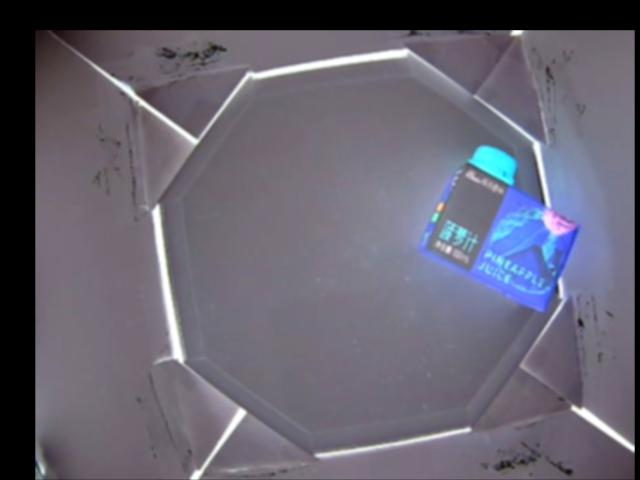Bottle: (422, 146, 583, 313)
